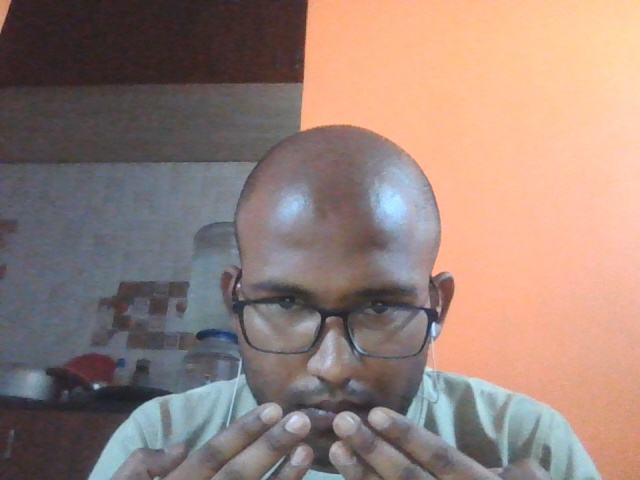thanks: (94, 387, 584, 480)
